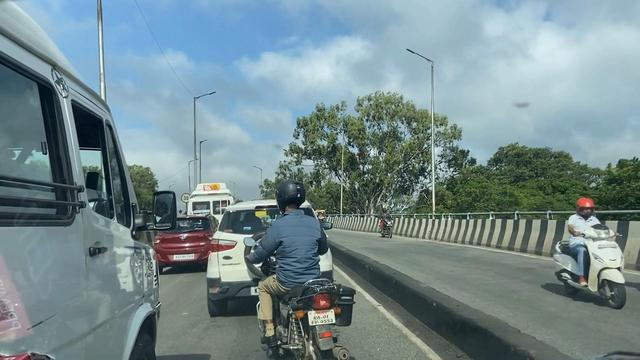LMV: (262, 184, 351, 352)
